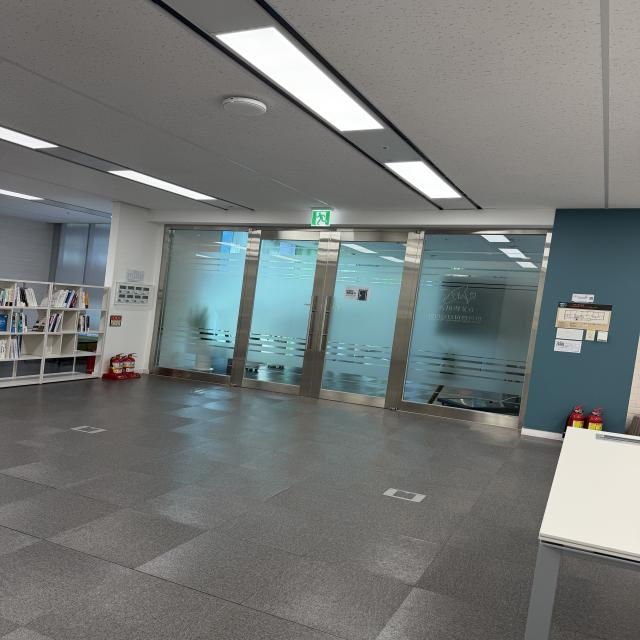front_door: (149, 210, 551, 435)
